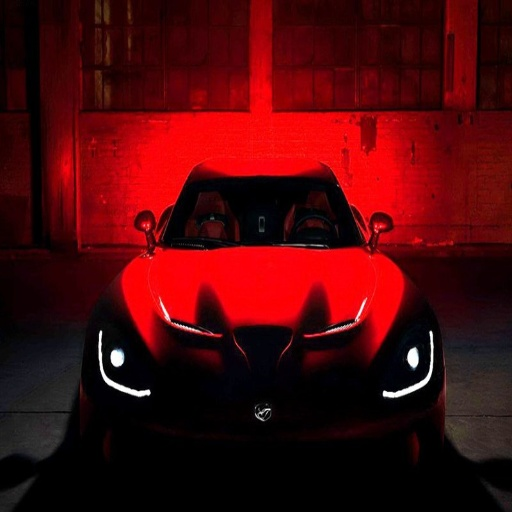front_bumper: (145, 318, 215, 364)
hood: (147, 247, 378, 333)
